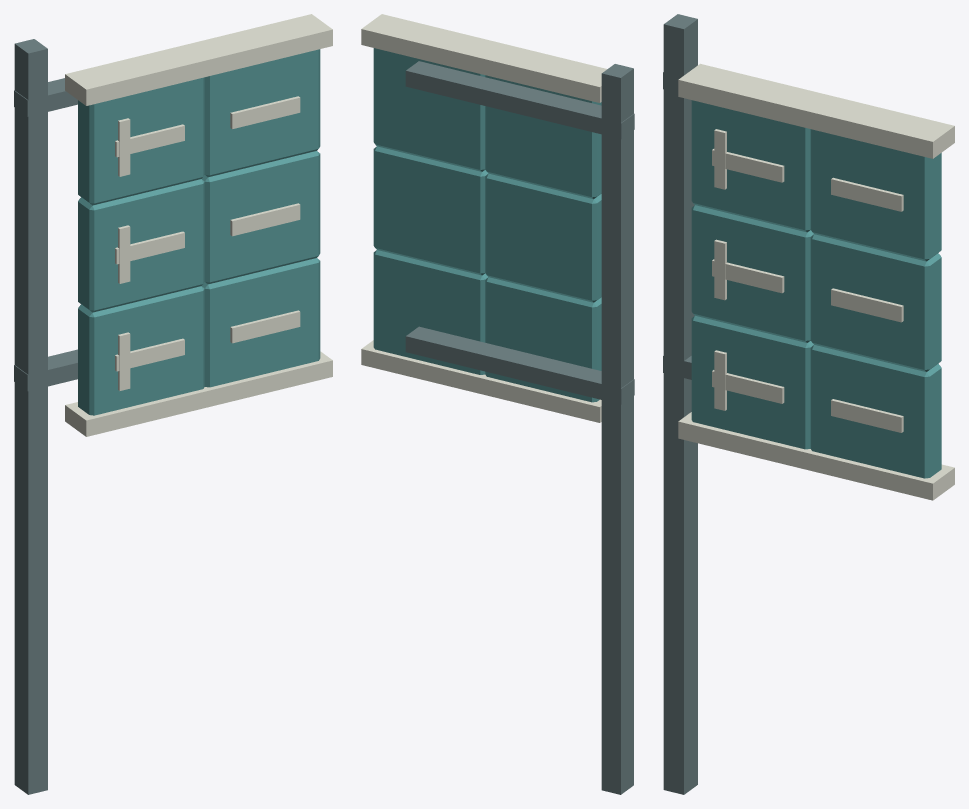
Rendered from blade_sign.fbx.
The picture shows the model from 3 angles, left to right: view 1: azimuth 30°, elevation 25°; view 2: azimuth 150°, elevation 25°; view 3: azimuth 330°, elevation 25°; orthographic projection. The views are drawn at different scales.
Visible parts, largest first — view 1: blade_sign__post, blade_sign__enamel_panel.002, blade_sign__enamel_panel, blade_sign__enamel_panel.003, blade_sign__enamel_panel.004, blade_sign__enamel_panel.001, blade_sign__enamel_panel.005, blade_sign__top_moulding, blade_sign__bottom_moulding, blade_sign__bracket, blade_sign__glyph.001, blade_sign__glyph.005 (+8 smaller); view 2: blade_sign__post, blade_sign__enamel_panel.002, blade_sign__enamel_panel.003, blade_sign__enamel_panel.001, blade_sign__enamel_panel.005, blade_sign__top_moulding, blade_sign__enamel_panel, blade_sign__enamel_panel.004, blade_sign__bracket.001, blade_sign__bracket, blade_sign__bottom_moulding; view 3: blade_sign__post, blade_sign__enamel_panel.003, blade_sign__enamel_panel.001, blade_sign__enamel_panel.005, blade_sign__enamel_panel.002, blade_sign__enamel_panel, blade_sign__enamel_panel.004, blade_sign__top_moulding, blade_sign__bottom_moulding, blade_sign__glyph.005, blade_sign__glyph.001, blade_sign__glyph.003 (+6 smaller).
Part boxes in pixels (x1=…): blade_sign__post: x1=14, y1=39, x2=47, y2=794; blade_sign__enamel_panel.002: x1=78, y1=179, x2=204, y2=312; blade_sign__enamel_panel: x1=78, y1=286, x2=204, y2=415; blade_sign__enamel_panel.003: x1=202, y1=151, x2=320, y2=284; blade_sign__enamel_panel.004: x1=78, y1=77, x2=204, y2=205; blade_sign__enamel_panel.001: x1=202, y1=258, x2=320, y2=387; blade_sign__enamel_panel.005: x1=204, y1=49, x2=320, y2=177; blade_sign__top_moulding: x1=65, y1=14, x2=332, y2=105; blade_sign__bottom_moulding: x1=65, y1=351, x2=332, y2=436; blade_sign__bracket: x1=14, y1=349, x2=77, y2=391; blade_sign__glyph.001: x1=230, y1=310, x2=300, y2=343; blade_sign__glyph.005: x1=230, y1=96, x2=300, y2=129; blade_sign__post: x1=601, y1=64, x2=633, y2=794; blade_sign__enamel_panel.002: x1=485, y1=173, x2=601, y2=302; blade_sign__enamel_panel.003: x1=373, y1=146, x2=488, y2=275; blade_sign__enamel_panel.001: x1=373, y1=250, x2=487, y2=374; blade_sign__enamel_panel.005: x1=373, y1=48, x2=485, y2=171; blade_sign__top_moulding: x1=361, y1=14, x2=607, y2=102; blade_sign__enamel_panel: x1=485, y1=277, x2=601, y2=402; blade_sign__enamel_panel.004: x1=485, y1=75, x2=601, y2=199; blade_sign__bracket.001: x1=405, y1=61, x2=634, y2=139; blade_sign__bracket: x1=405, y1=326, x2=634, y2=404; blade_sign__bottom_moulding: x1=361, y1=340, x2=601, y2=422; blade_sign__post: x1=663, y1=14, x2=697, y2=794; blade_sign__enamel_panel.003: x1=810, y1=234, x2=941, y2=371; blade_sign__enamel_panel.001: x1=810, y1=345, x2=941, y2=478; blade_sign__enamel_panel.005: x1=810, y1=129, x2=941, y2=261; blade_sign__enamel_panel.002: x1=691, y1=205, x2=813, y2=342; blade_sign__enamel_panel: x1=691, y1=315, x2=813, y2=449; blade_sign__enamel_panel.004: x1=691, y1=100, x2=810, y2=232; blade_sign__top_moulding: x1=678, y1=63, x2=954, y2=158; blade_sign__bottom_moulding: x1=678, y1=412, x2=954, y2=500; blade_sign__glyph.005: x1=831, y1=177, x2=903, y2=211; blade_sign__glyph.001: x1=831, y1=399, x2=903, y2=432; blade_sign__glyph.003: x1=831, y1=288, x2=903, y2=322.
Bounding box in the file's own units: 216 × 540 × 47.
